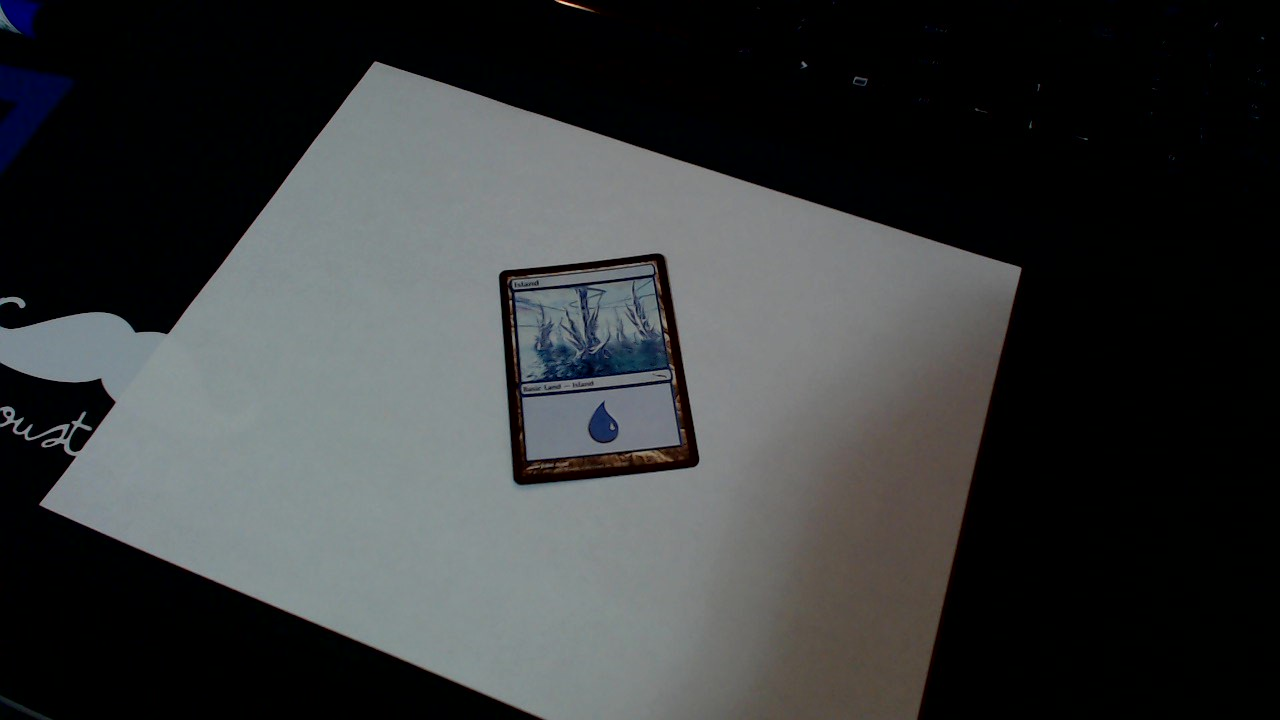MTG Card: (487, 251, 712, 491)
